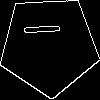I: (24, 20, 69, 38)
